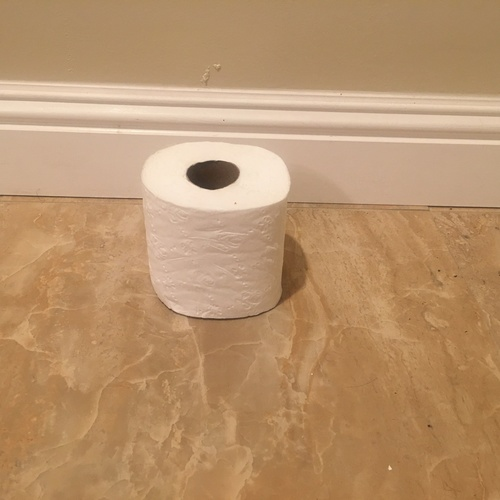roll: (142, 142, 290, 318)
